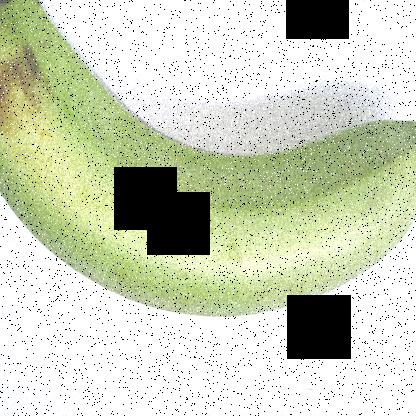freshunripe: (1, 0, 415, 333)
